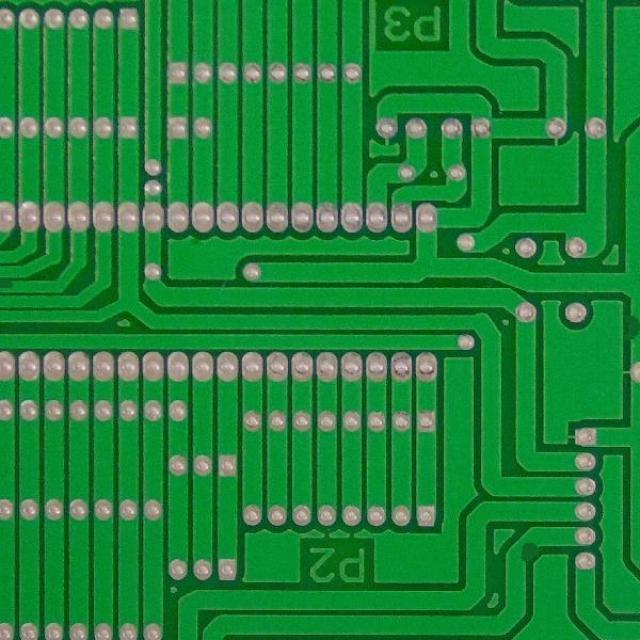MouseBite: (512, 540, 542, 562), (625, 307, 640, 343), (0, 276, 20, 292)
